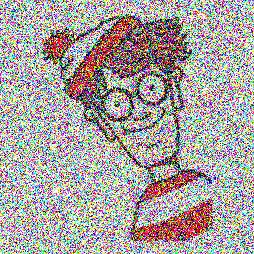waldos: (36, 10, 221, 247)
